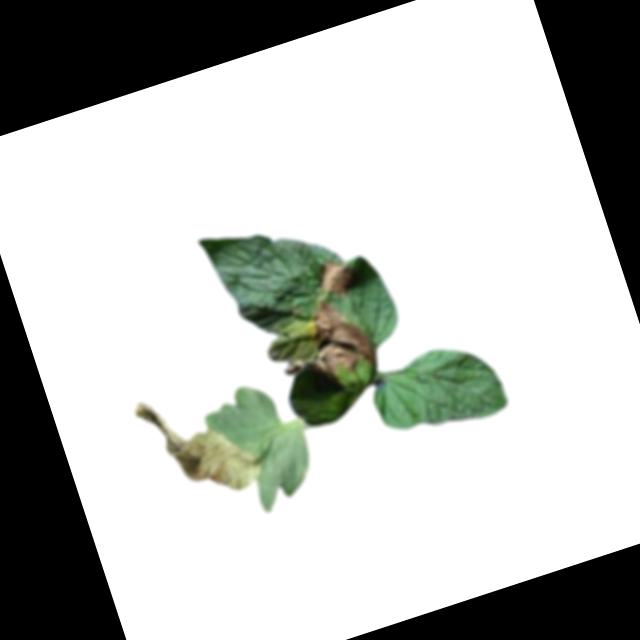Late_blight: (129, 369, 270, 515), (265, 290, 381, 399), (307, 252, 359, 302)
healthy: (362, 333, 513, 458)
